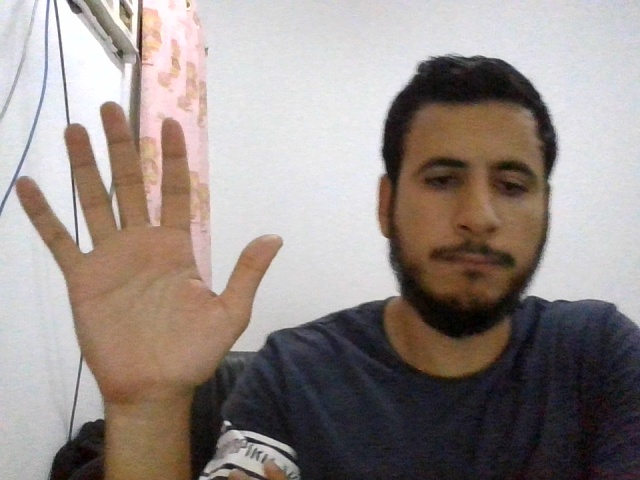Five: (14, 101, 285, 397)
